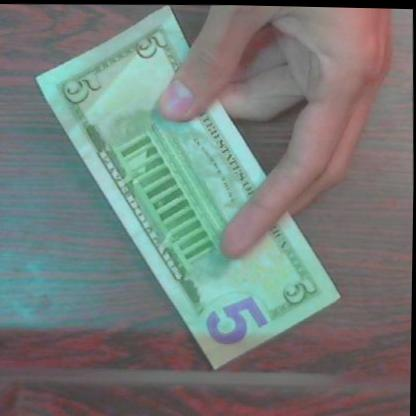five-back: (26, 1, 350, 375)
